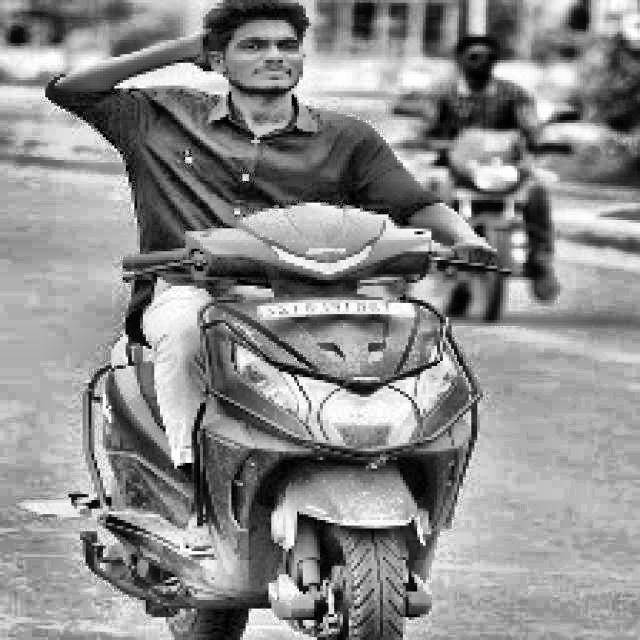motorcycle: (70, 194, 517, 640)
